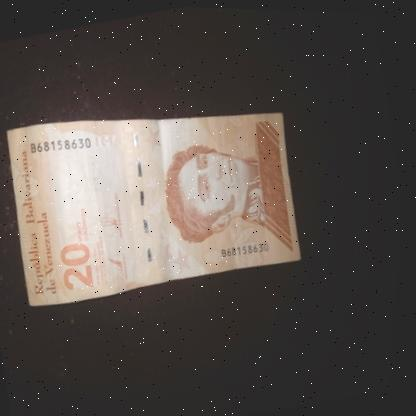twenty-front-vef: (0, 67, 320, 319)
